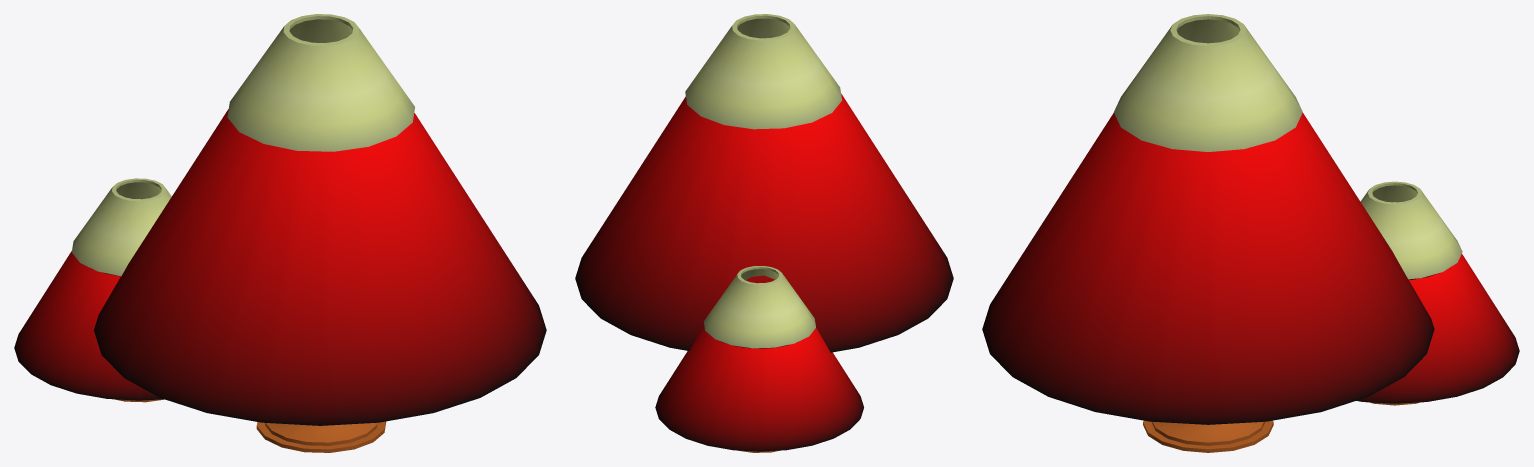
File: SM_Lamps.fbx
3 renders of one model, left to right at view 1: azimuth 30°, elevation 25°; view 2: azimuth 150°, elevation 25°; view 3: azimuth 270°, elevation 25°, orthographic. The views are drawn at different scales.
Visible parts, largest first — view 1: Cone002, Line004, Cone001; view 2: Cone002, Line004, Cone001; view 3: Cone002, Line004, Cone001.
Part boxes in pixels (bbox=[...]): Cone002: bbox=[94, 109, 546, 425]; Line004: bbox=[71, 14, 414, 452]; Cone001: bbox=[14, 251, 163, 400]; Cone002: bbox=[575, 93, 953, 352]; Line004: bbox=[685, 14, 842, 452]; Cone001: bbox=[655, 325, 863, 451]; Cone002: bbox=[982, 112, 1434, 424]; Line004: bbox=[1114, 14, 1462, 452]; Cone001: bbox=[1356, 254, 1519, 403].
Bounding box in the file's own units: 31.7 × 30.62 × 37.67.
